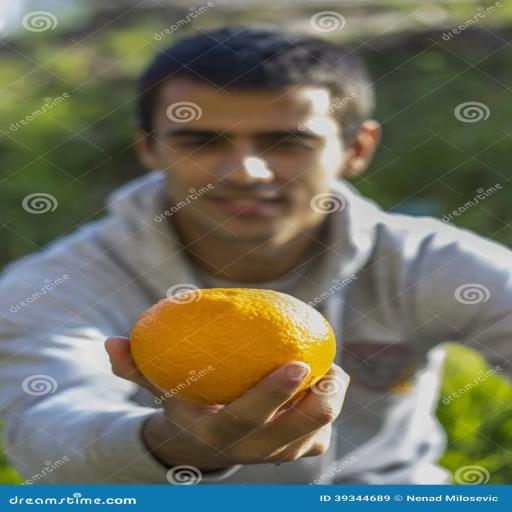orange: (131, 289, 335, 404)
